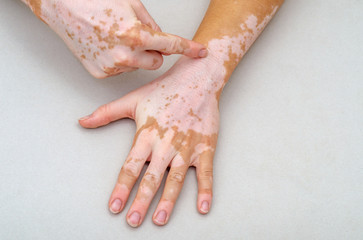vitiligo: (117, 62, 223, 218)
